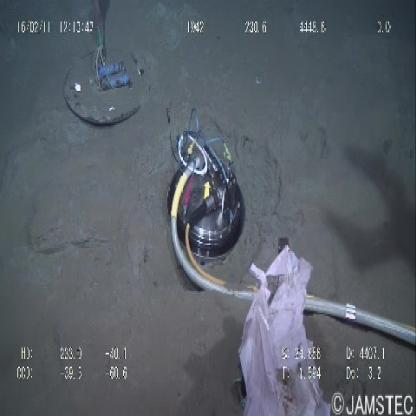Rov: (162, 98, 248, 310), (62, 1, 146, 130)
Rác: (232, 242, 333, 416)
